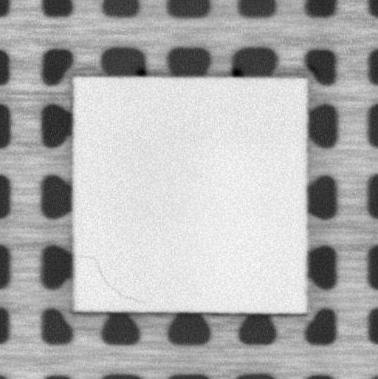DIE_CRACK: (81, 253, 141, 304)
